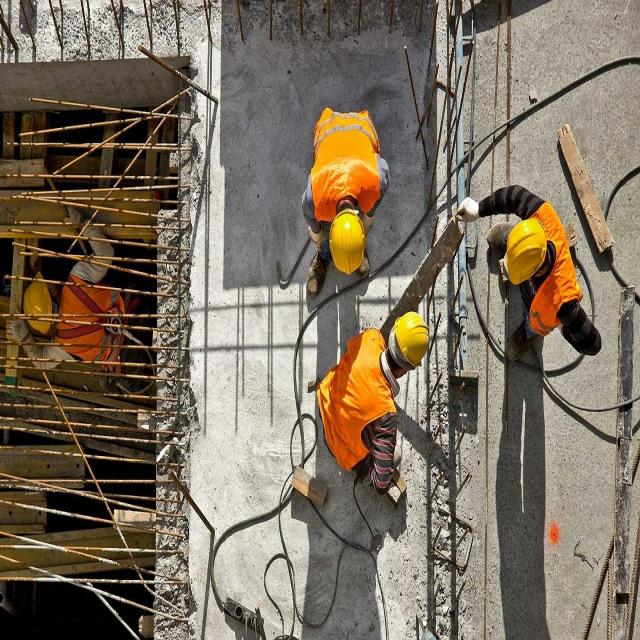Reflective-Jacket: (316, 332, 394, 468), (309, 104, 382, 224), (55, 255, 117, 362), (506, 215, 546, 282)
Safety-Helmet: (328, 210, 366, 274), (393, 308, 431, 370)
